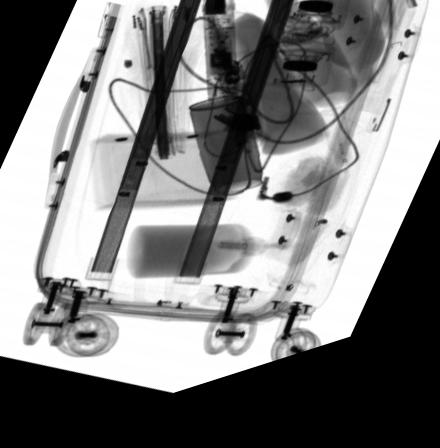Baton: (203, 0, 243, 119)
